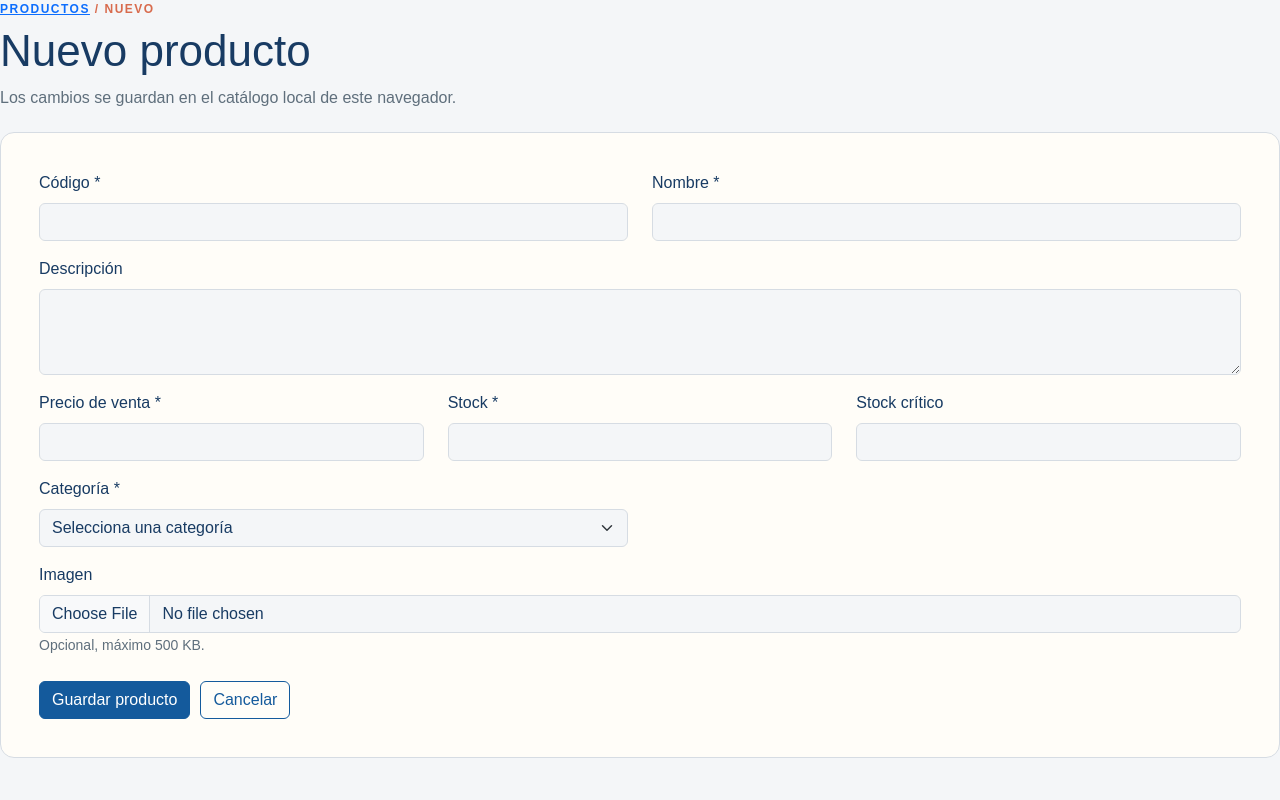
AdminProductoFormContainer › avisa si no se pudo guardar
In the field labelled "Código *": [334, 222] box [39,203,628,241], type "nuevo1"
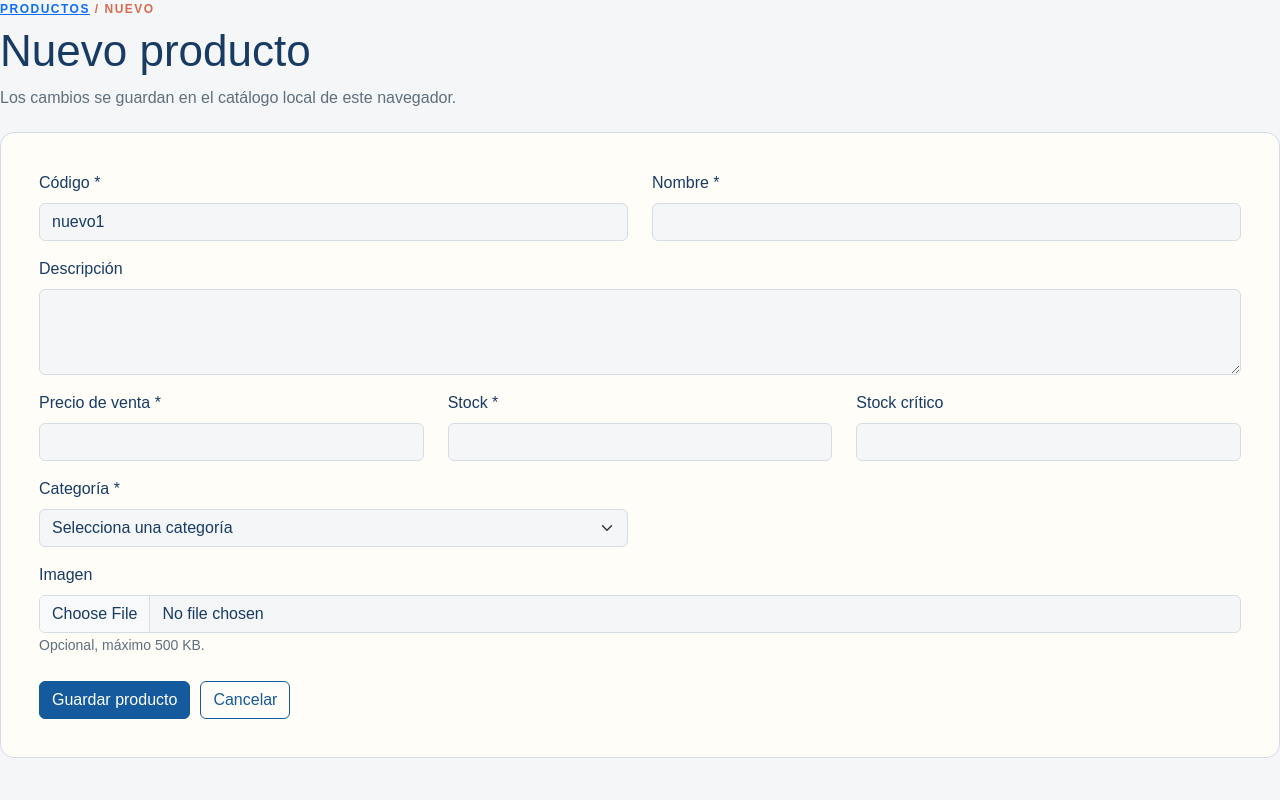
In the field labelled "Nombre *": [946, 222] box [652,203,1241,241], type "Pala"
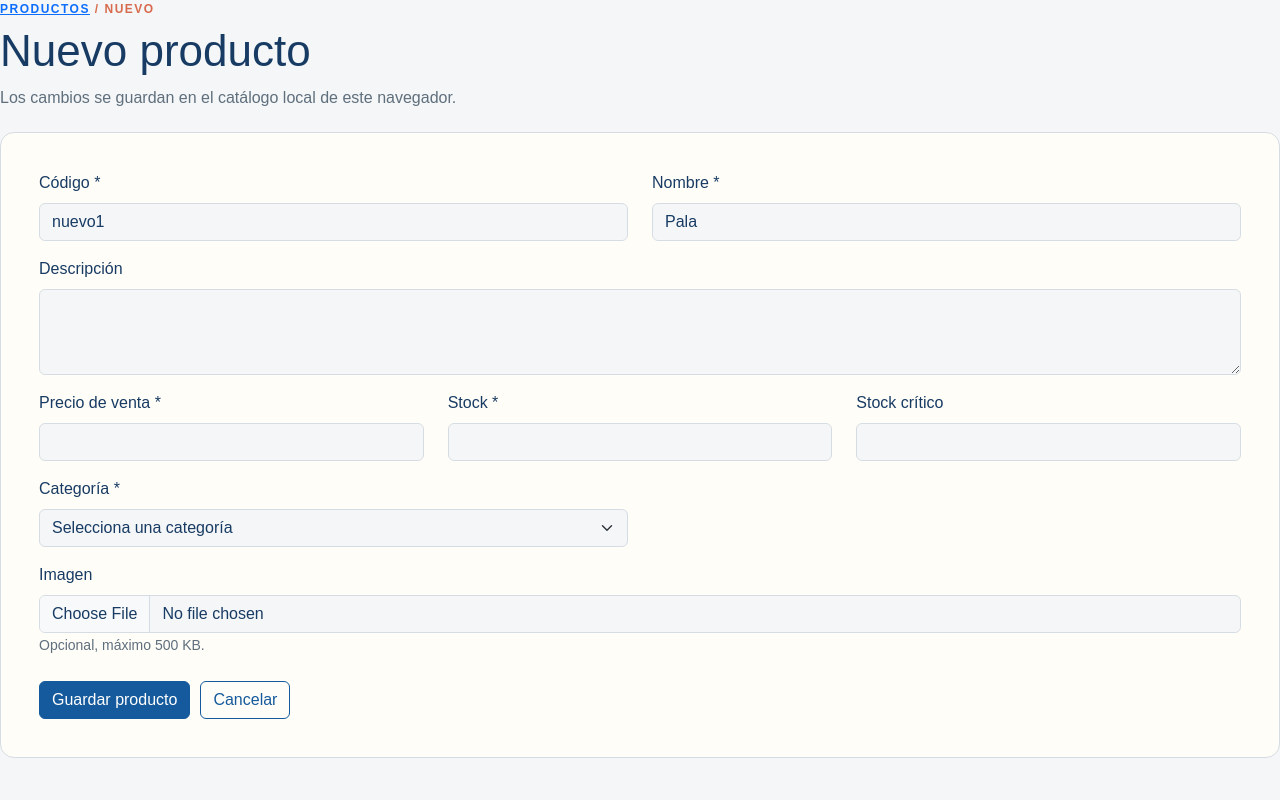
In the number field labelled "Precio de venta *": [231, 442] box [39,423,424,461], type "3000"
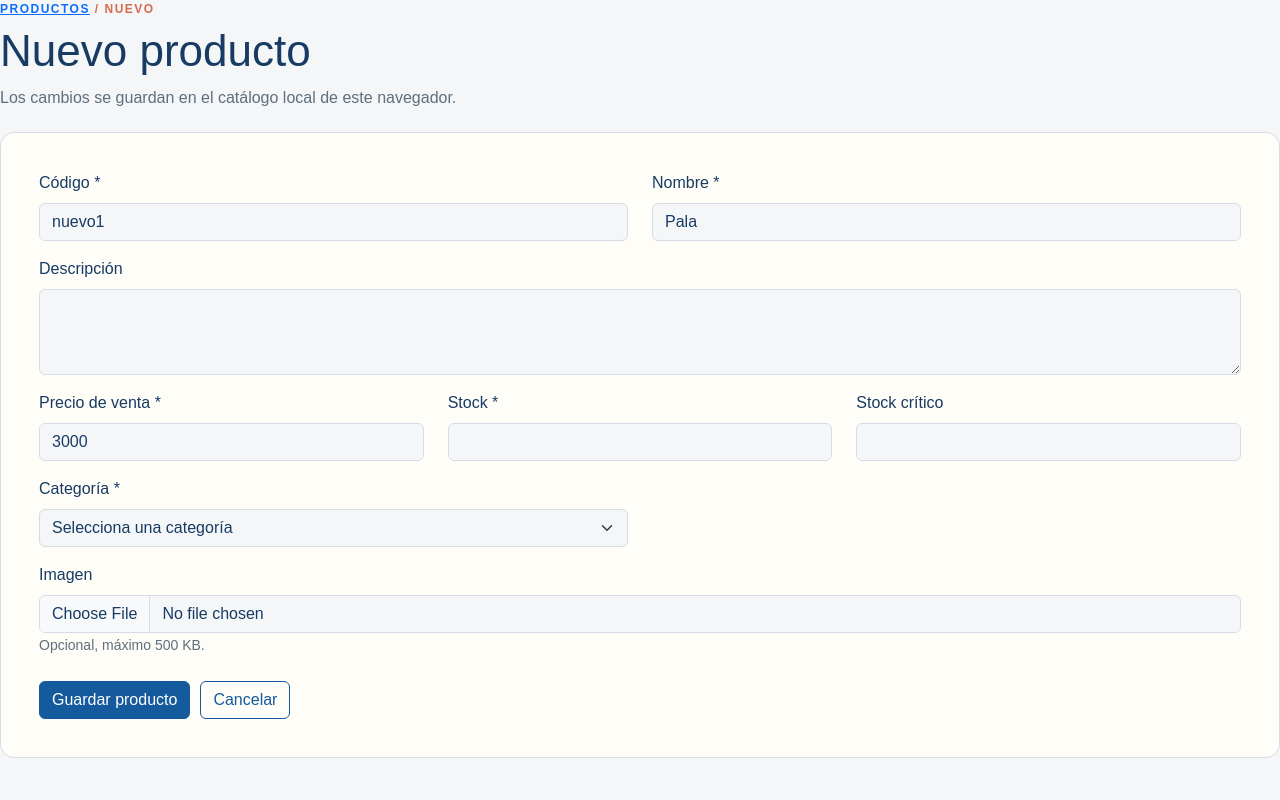
In the number field labelled "Stock *": [640, 442] box [448,423,832,461], type "4"
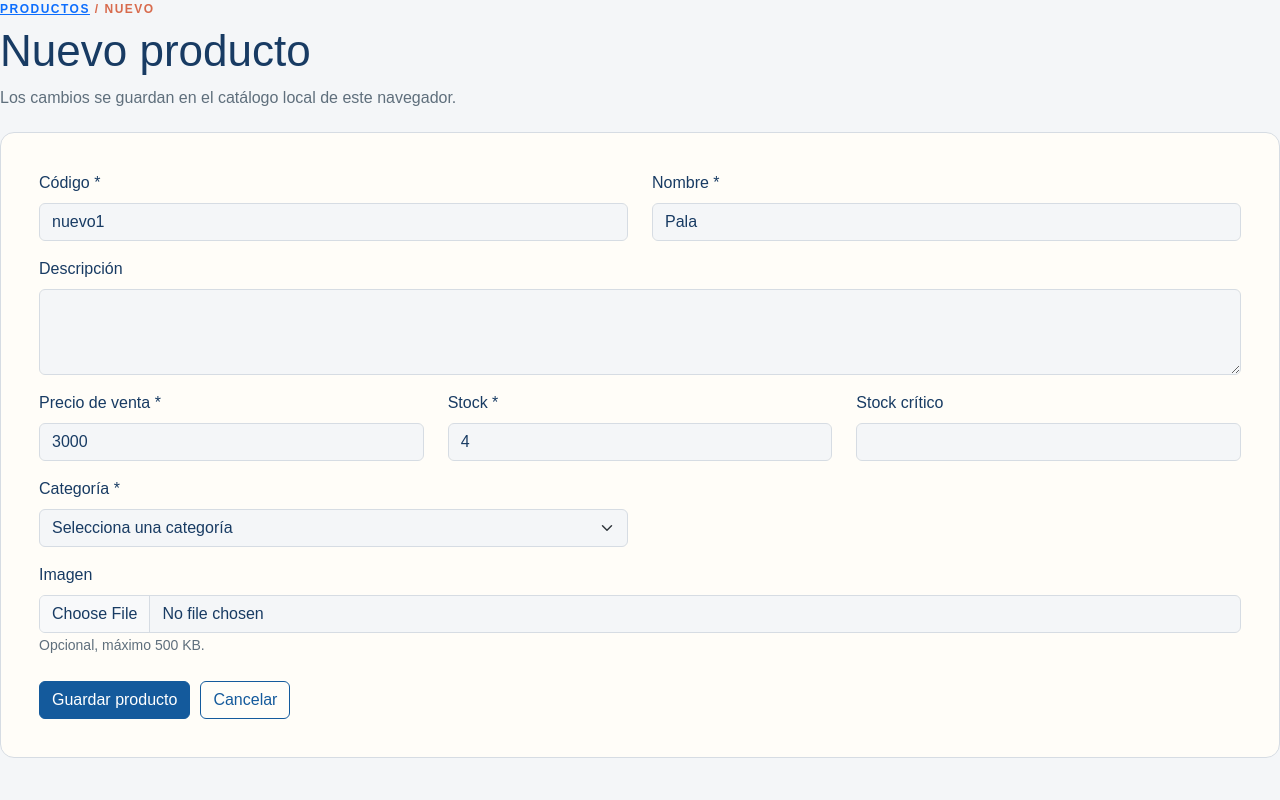
Select "Jardín" in the dropdown labelled "Categoría *": [334, 528] box [39,509,628,547]
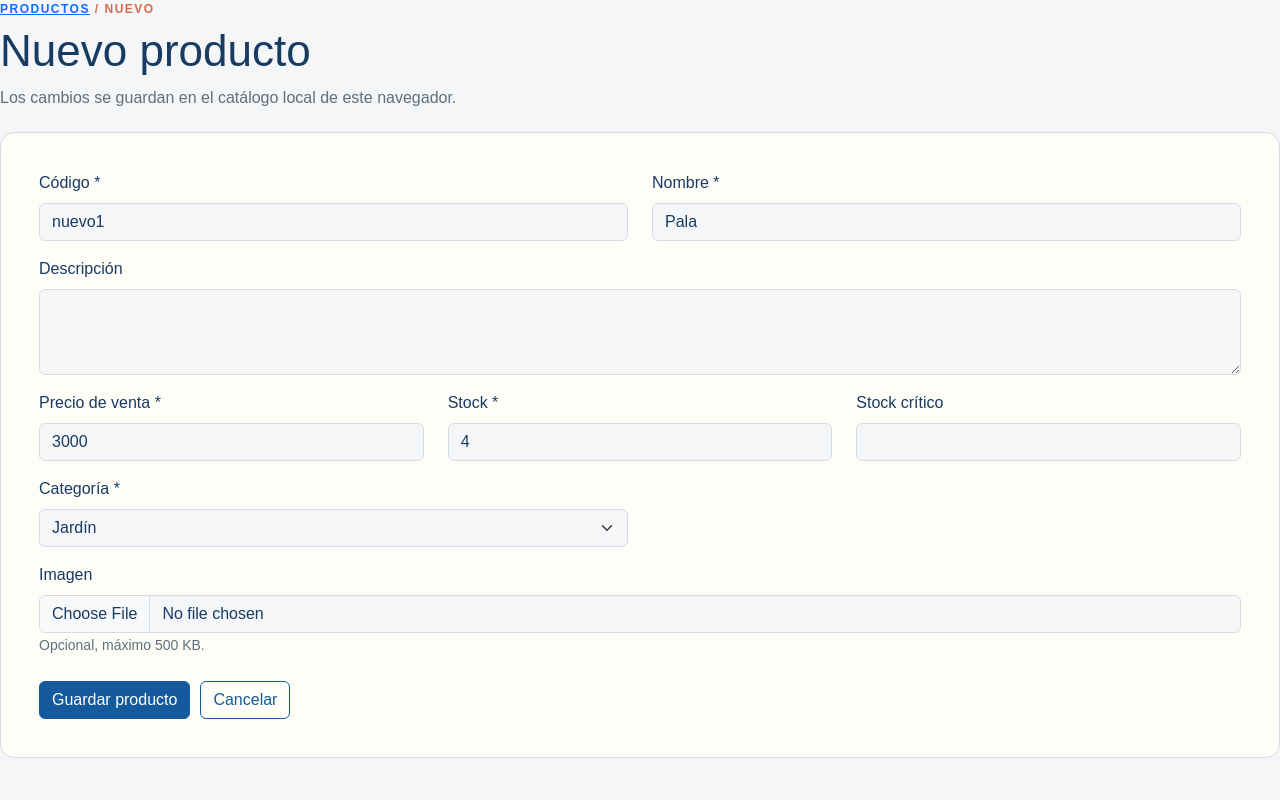
Click the button "Guardar producto": [115, 700] box [39,681,190,719]
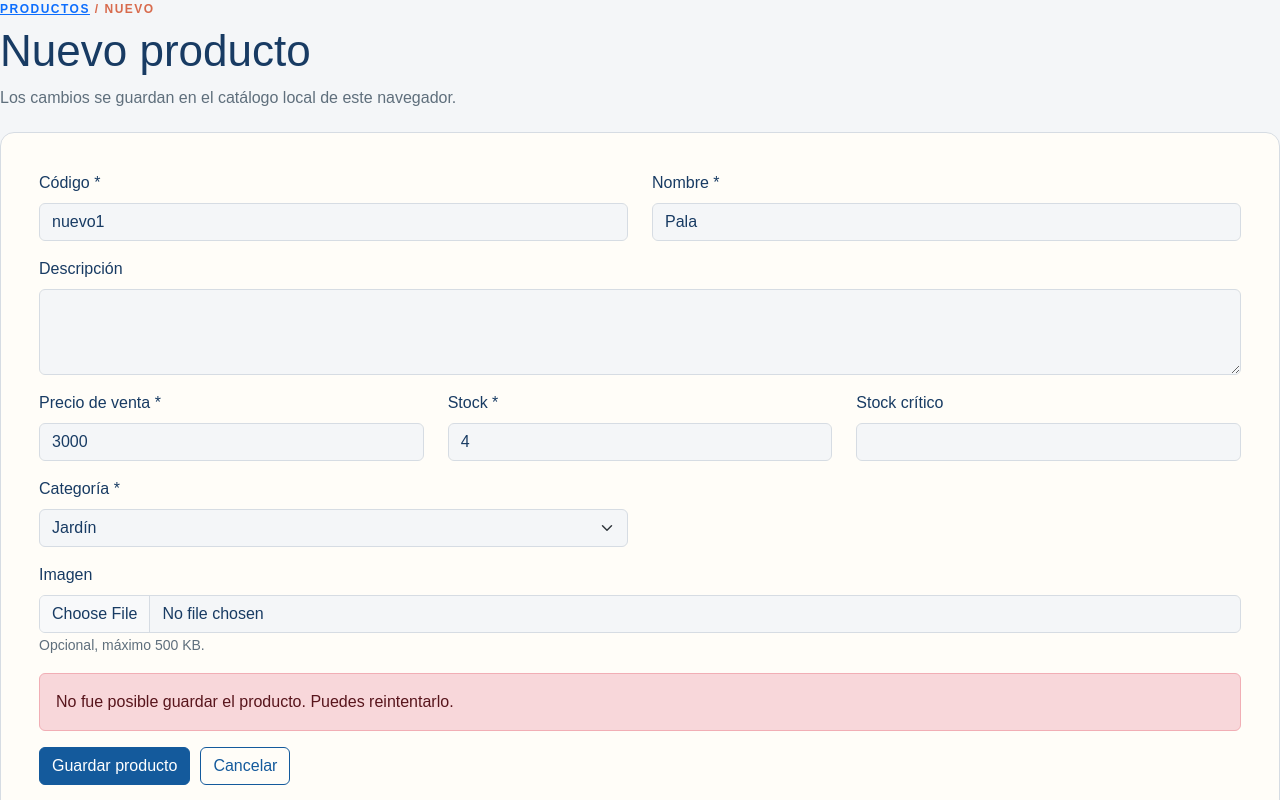
Expected: the message shows "No fue posible guardar el producto", [56,693,454,710]
